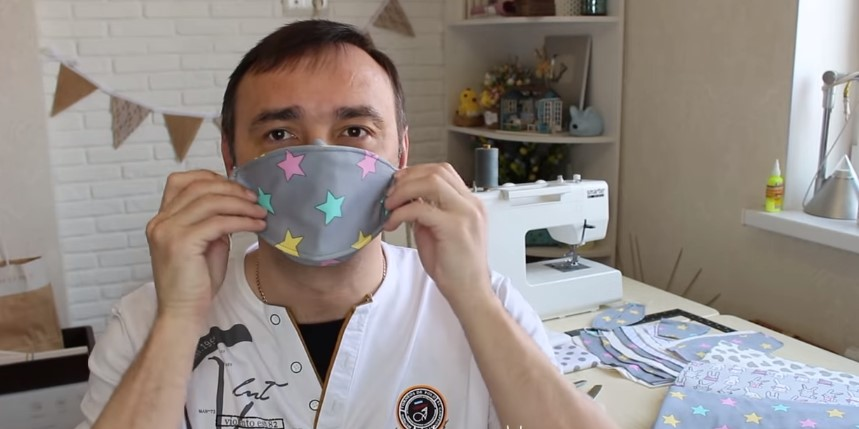face_with_mask: (218, 20, 420, 264)
